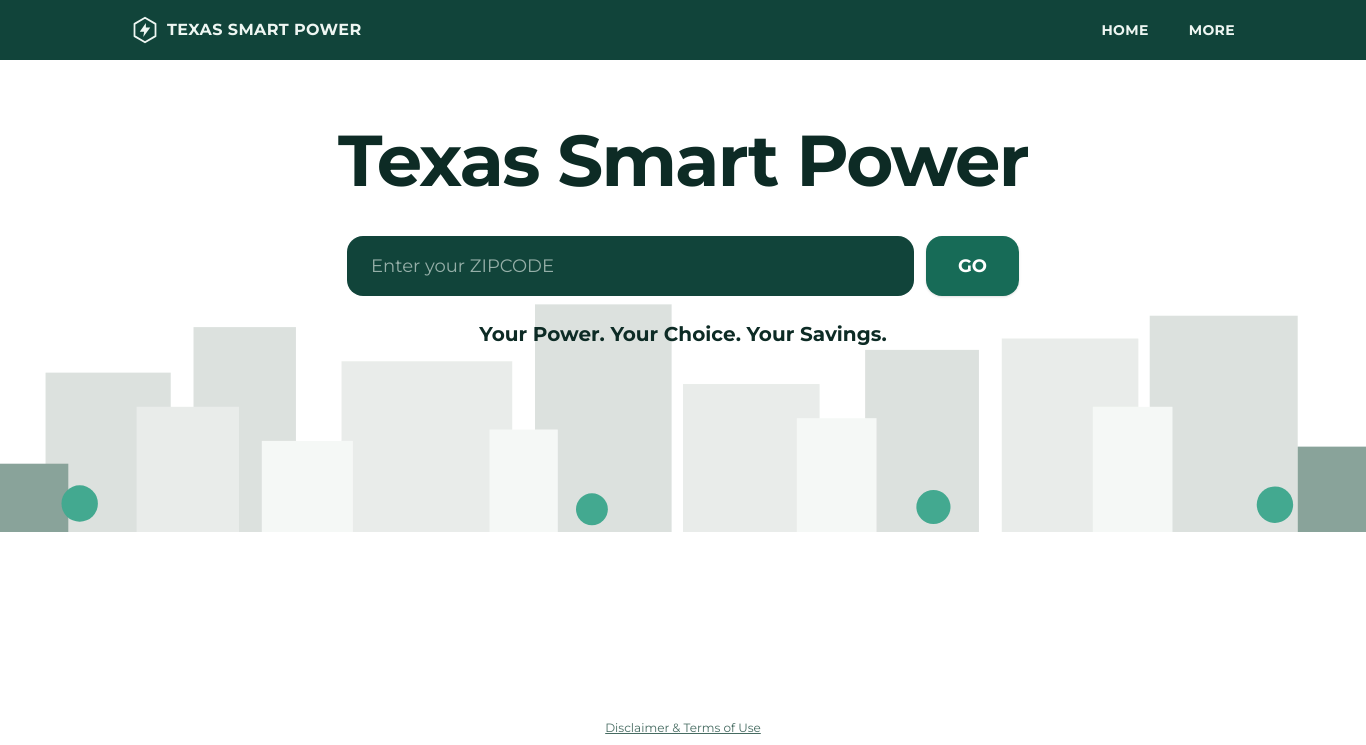
Scenario: split ZIP shows the area picker; choosing one loads its plans
In the field named "zip code": coordinates (630, 266) [347,236,914,296], type "75067"
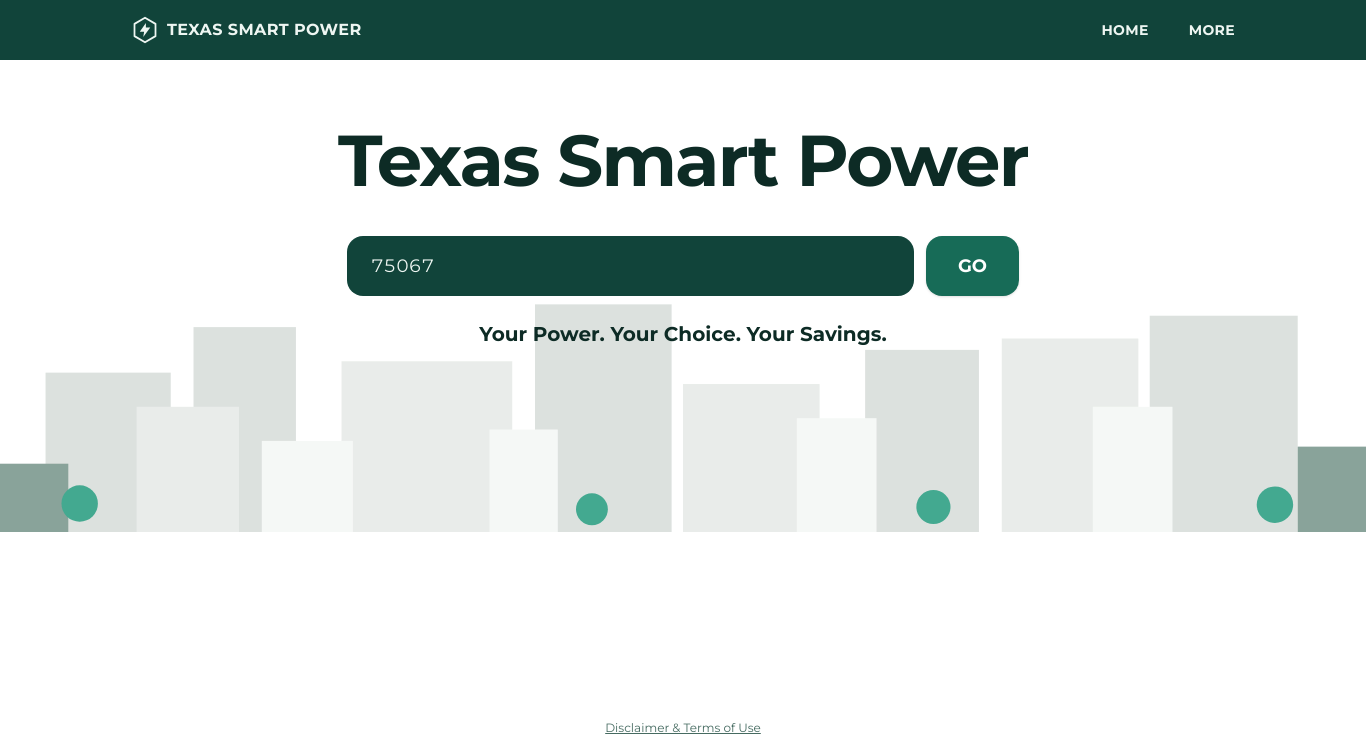
Click the button "GO": coordinates (972, 266) [926,236,1019,296]
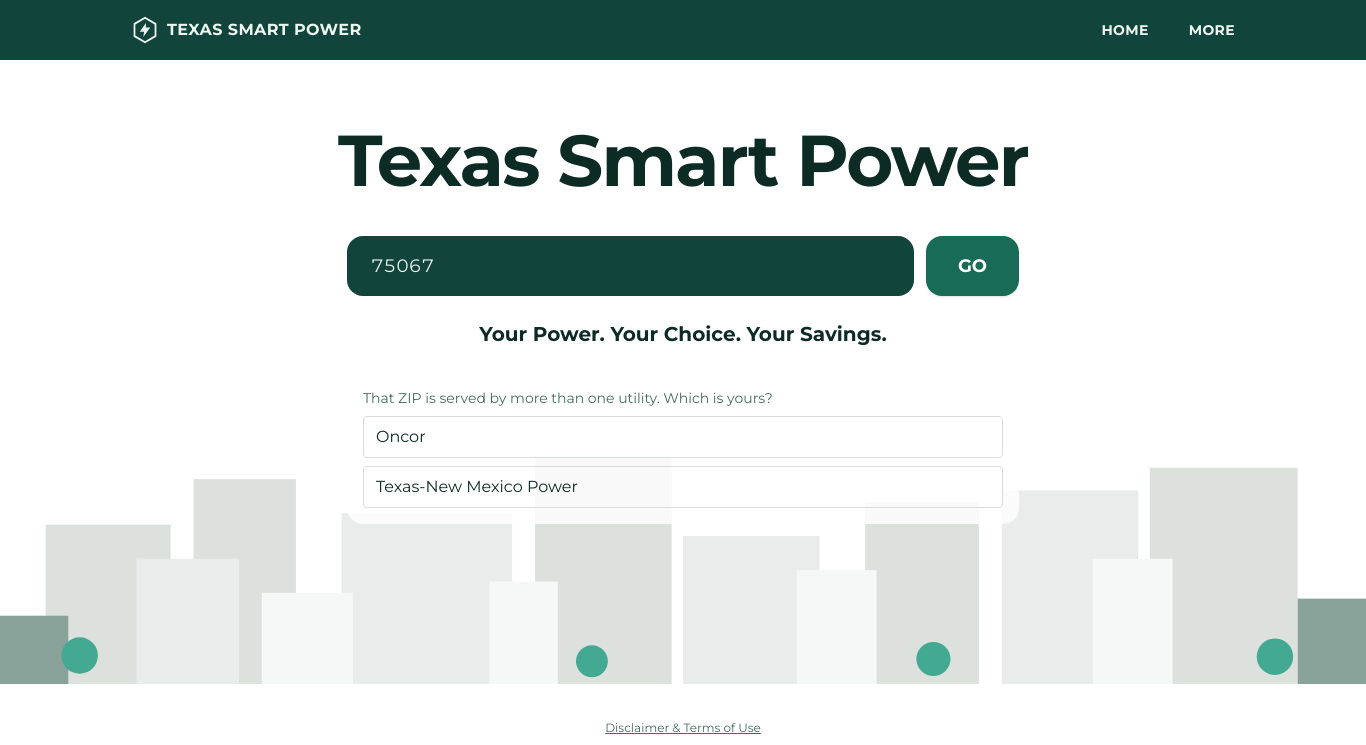
Click the button "Oncor": coordinates (401, 436) [363,416,1003,458]
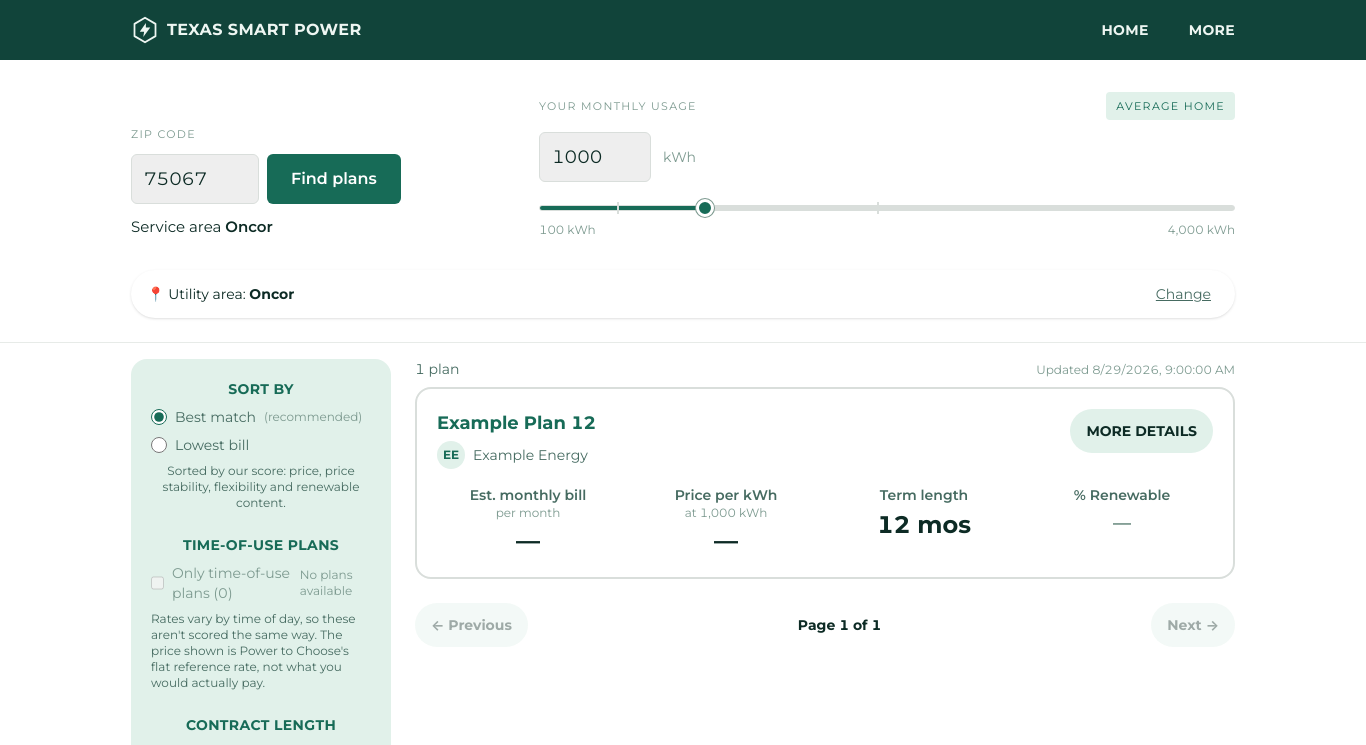
Check: the heading "Example Plan 12" is shown, box [437,409,596,437]
